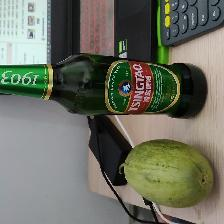gua: (119, 143, 211, 208)
